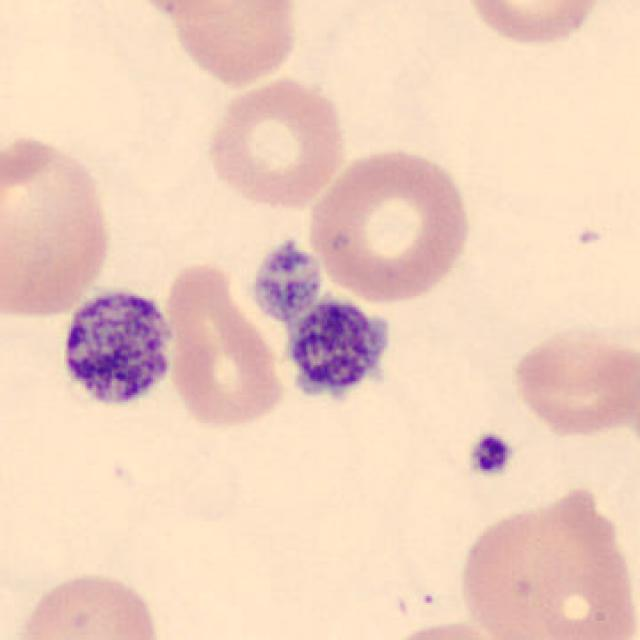Platelets: (55, 284, 178, 416), (291, 301, 391, 401), (249, 245, 326, 322), (464, 430, 516, 480)
RBC: (454, 483, 638, 640), (304, 141, 476, 305), (156, 255, 288, 436), (0, 128, 117, 322), (203, 72, 350, 212), (506, 322, 636, 440), (155, 0, 304, 88), (11, 566, 165, 640), (457, 0, 610, 49), (119, 0, 281, 21), (375, 617, 510, 640)
